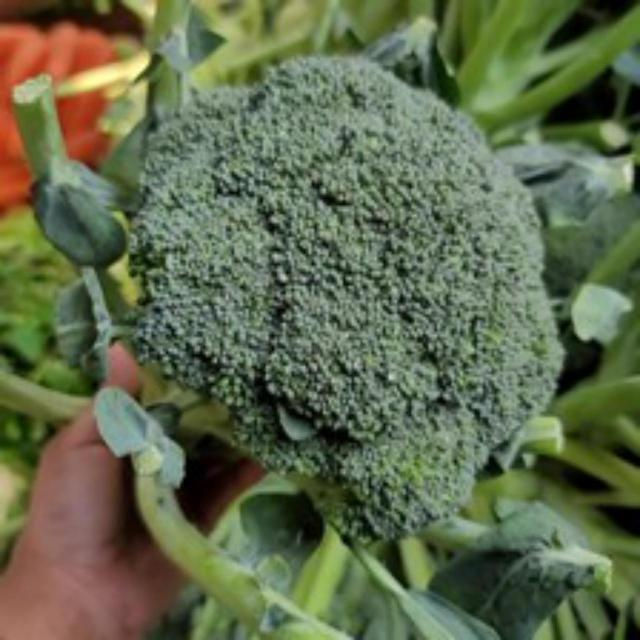broccoli: (87, 48, 568, 531)
